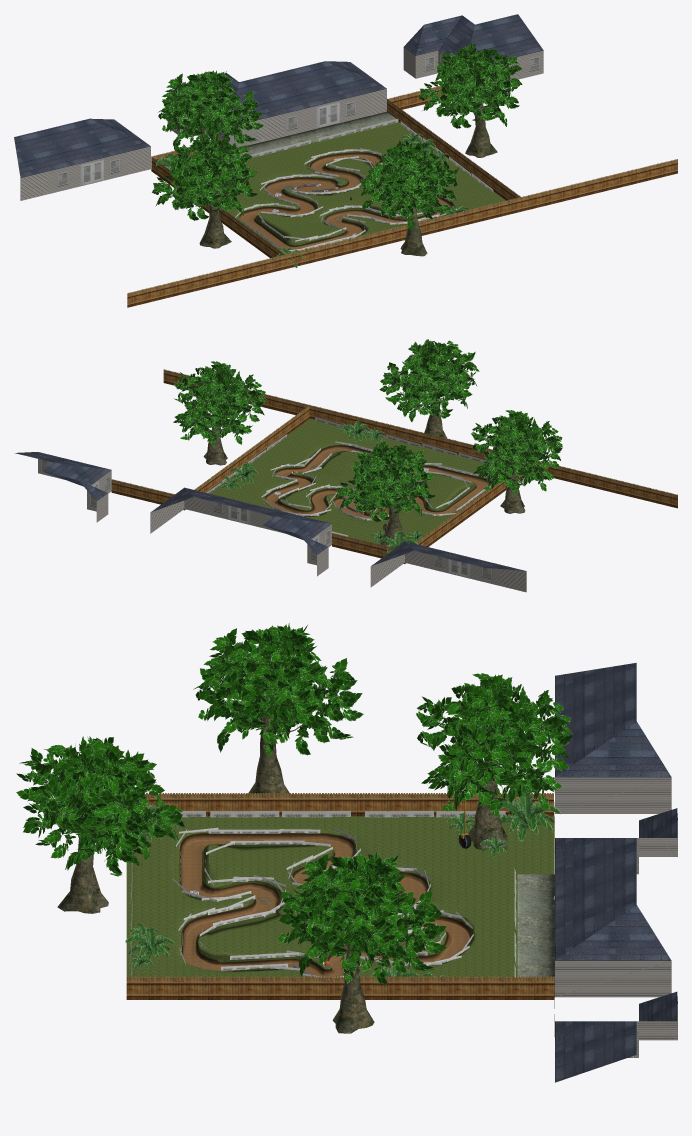
File: backyard_racetrack.fbx
3 renders of one model, top to bottom at view 1: azimuth 30°, elevation 25°; view 2: azimuth 150°, elevation 25°; view 3: azimuth 270°, elevation 25°, orthographic. The views are drawn at different scales.
Parts seen in each view (by area): view 1: outside, ground2, fence; view 2: outside, ground2, fence; view 3: outside, ground2, fence.
Part boxes in pixels (<box>): outside: <box>14,14,543,267</box>; ground2: <box>153,122,505,257</box>; fence: <box>127,85,677,307</box>; outside: <box>15,339,562,592</box>; ground2: <box>209,418,519,563</box>; fence: <box>111,369,677,563</box>; outside: <box>16,623,677,1082</box>; ground2: <box>126,816,554,977</box>; fence: <box>126,793,554,1036</box>.
Size of the model in its own units: 5146 by 981 by 3371.
